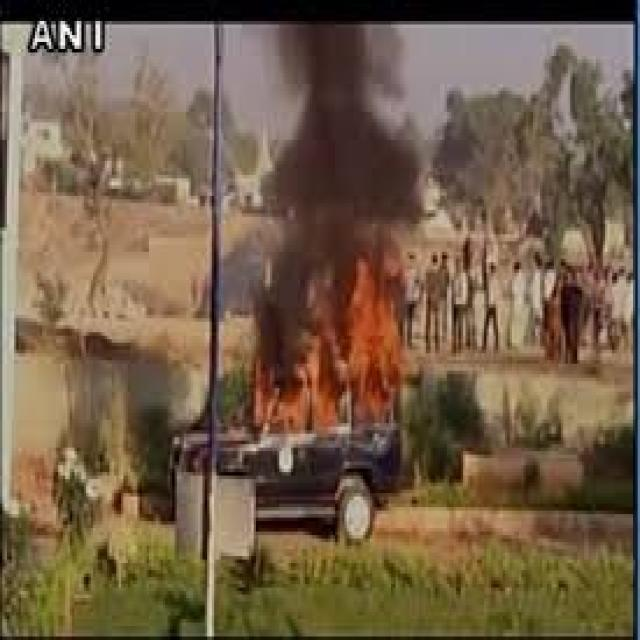Fire: (249, 352, 406, 428), (308, 253, 408, 366)
Smoke: (278, 19, 420, 252), (254, 252, 311, 352)
